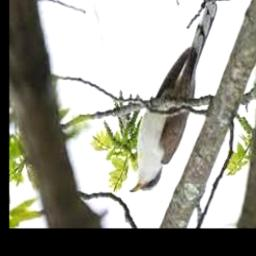Cuckoo: (127, 1, 217, 193)
